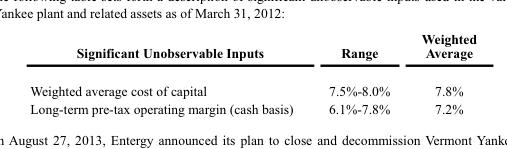table: (29, 29, 475, 117)
table column: (29, 29, 310, 117), (310, 29, 404, 117), (404, 29, 475, 117)
table column header: (29, 29, 475, 71)
table row: (29, 29, 475, 71), (29, 71, 475, 99), (29, 99, 475, 117)
